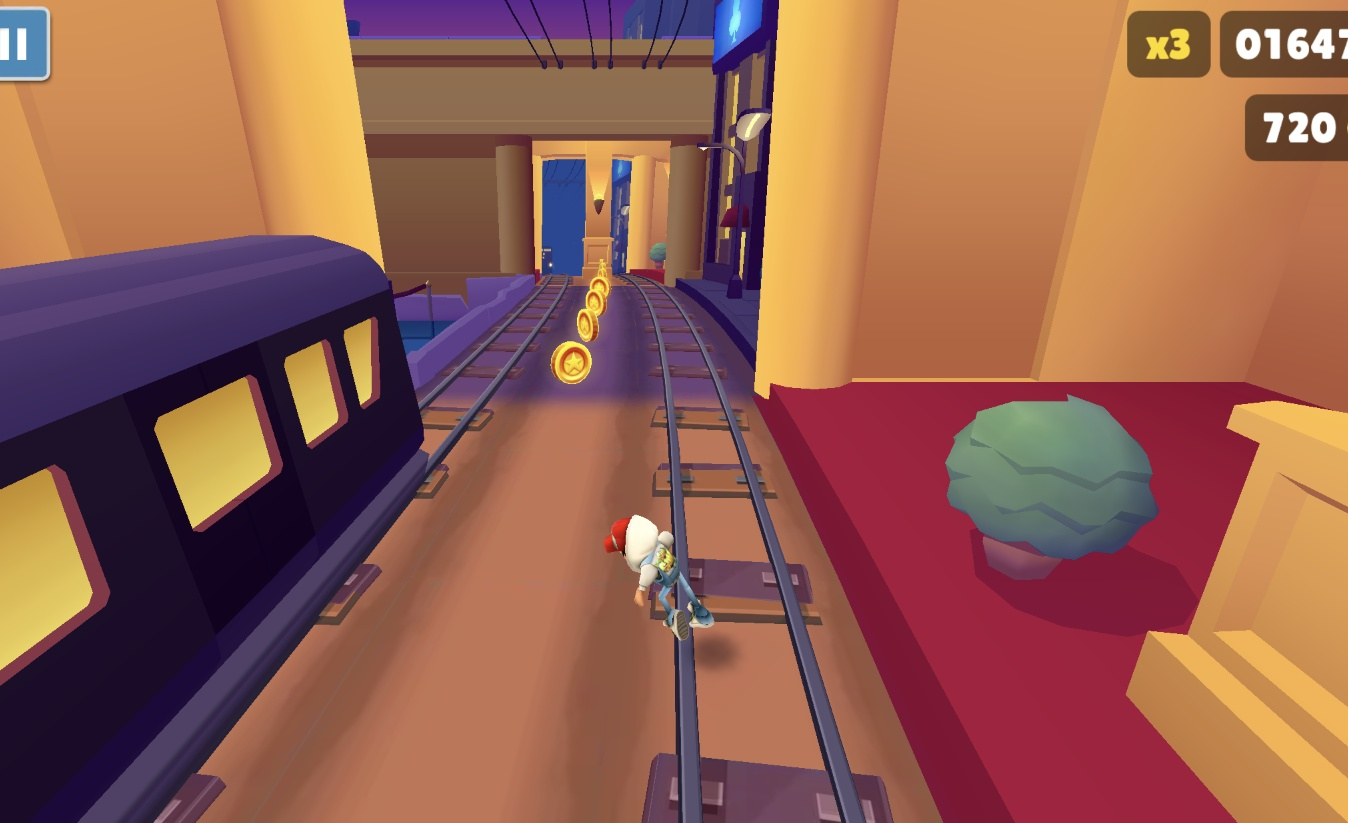pillar: (580, 143, 613, 280)
train: (0, 233, 428, 823), (539, 243, 556, 277)
